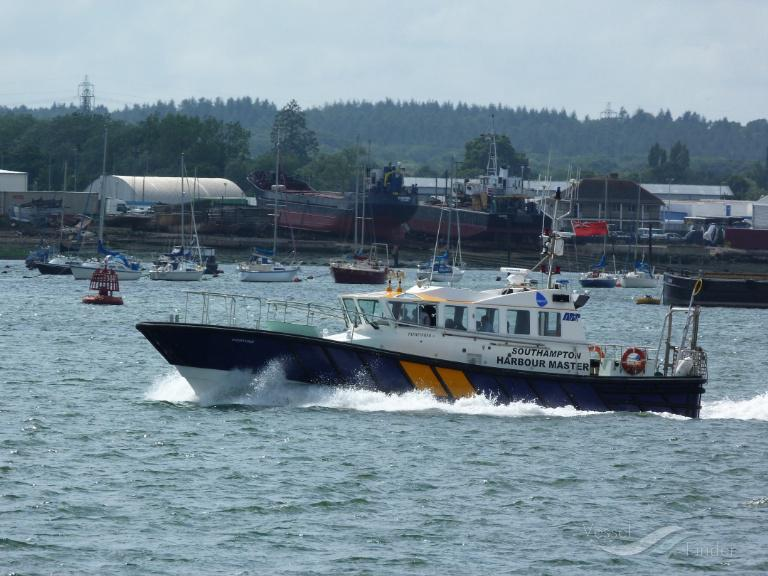OCR: (490, 346, 594, 380)
